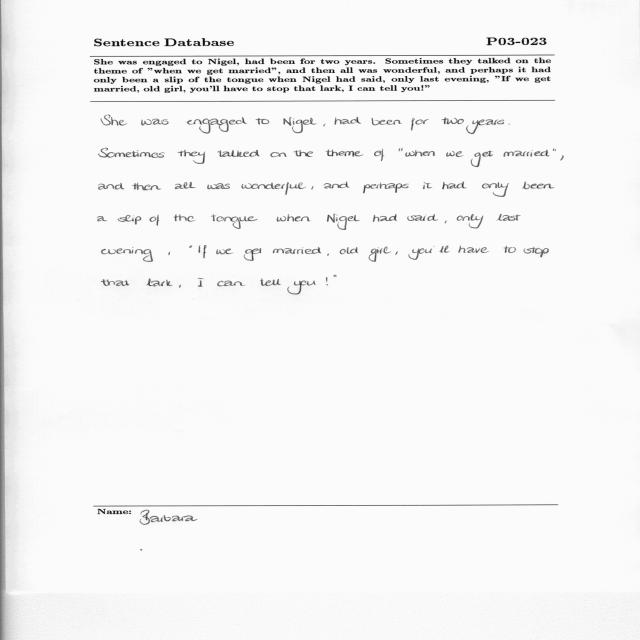word: (186, 117, 247, 134), (242, 182, 307, 195), (101, 247, 153, 262), (211, 214, 258, 229), (99, 148, 165, 158), (466, 119, 504, 134), (283, 117, 317, 133), (327, 214, 360, 230), (363, 183, 409, 194), (482, 182, 509, 197), (288, 281, 316, 295), (457, 214, 483, 229), (178, 150, 205, 164), (471, 151, 493, 167), (369, 246, 391, 262), (273, 247, 321, 254), (504, 150, 550, 157), (218, 150, 260, 157), (409, 248, 433, 260), (523, 247, 549, 258), (101, 115, 127, 125), (326, 150, 363, 157), (522, 182, 554, 190), (458, 245, 489, 253), (277, 215, 311, 222), (118, 215, 141, 225), (244, 248, 261, 261), (407, 214, 438, 221), (335, 117, 362, 125), (411, 118, 429, 130), (372, 118, 402, 125), (405, 150, 435, 157), (147, 279, 173, 287), (132, 183, 161, 190), (442, 182, 467, 190), (141, 119, 169, 126), (373, 214, 397, 222), (102, 279, 129, 286), (99, 183, 125, 190), (324, 182, 350, 189), (174, 214, 196, 222), (496, 214, 521, 221), (217, 281, 245, 287), (260, 278, 281, 286), (441, 118, 464, 125), (175, 182, 196, 189), (207, 183, 230, 189), (294, 150, 313, 157), (340, 247, 358, 254), (374, 149, 384, 161), (198, 246, 207, 259), (150, 215, 160, 226), (446, 151, 464, 157), (216, 249, 233, 255), (503, 246, 516, 253), (270, 152, 287, 157), (256, 118, 270, 124), (439, 246, 450, 253), (423, 182, 432, 189), (97, 216, 107, 221), (198, 278, 203, 287), (560, 156, 564, 161), (399, 148, 403, 152), (326, 277, 328, 285), (395, 251, 398, 255), (553, 149, 556, 152), (444, 221, 447, 224), (190, 245, 193, 248), (312, 186, 314, 190), (323, 124, 326, 126), (168, 252, 170, 255), (327, 253, 329, 256), (179, 285, 181, 288), (334, 275, 337, 277), (508, 124, 510, 125)
